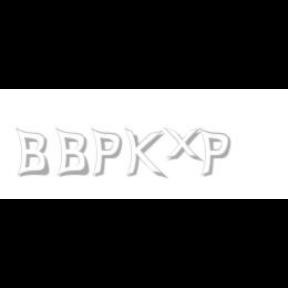B: (15, 128, 49, 178), (55, 128, 89, 178)
K: (124, 128, 164, 180)
P: (90, 128, 122, 178), (199, 128, 231, 178)
x: (164, 128, 206, 162)
